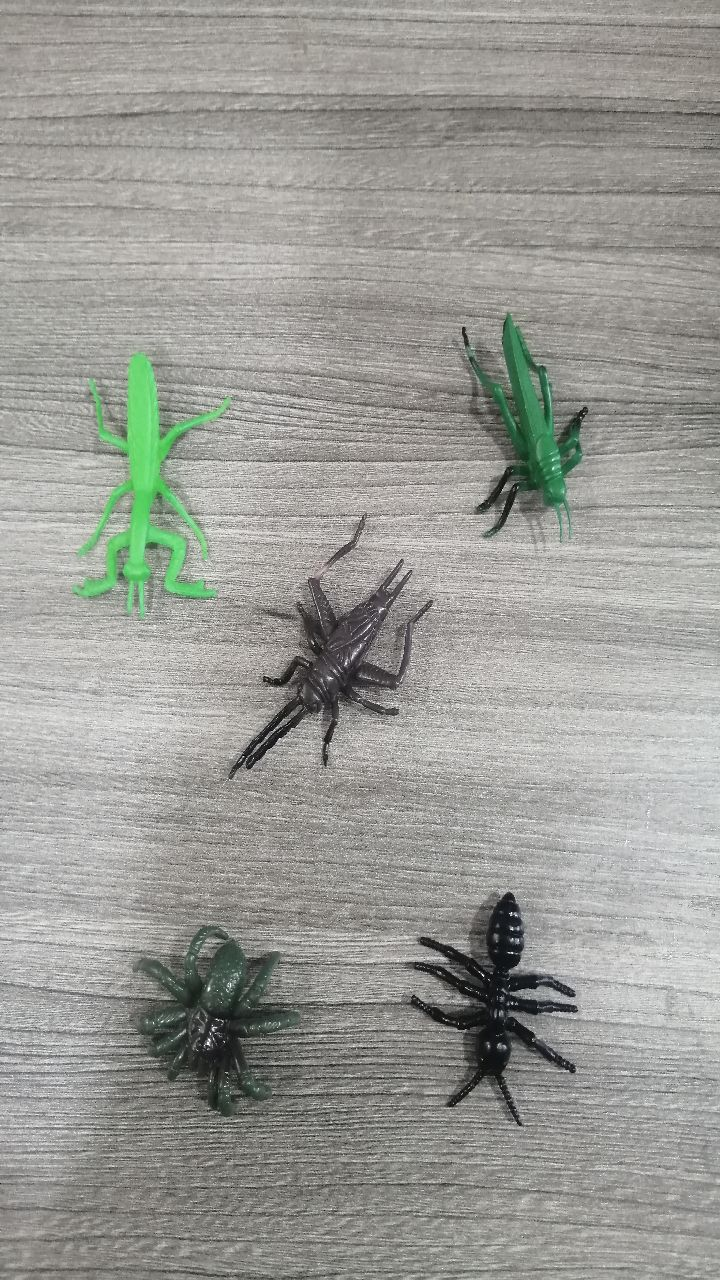intruso: (363, 845, 618, 1139), (220, 515, 432, 805), (37, 314, 226, 632), (426, 277, 623, 571), (86, 882, 320, 1129)
